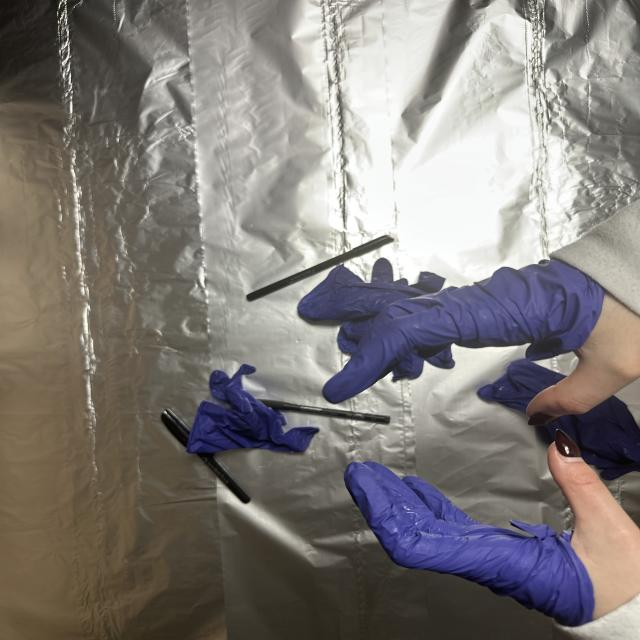glove_partial: (338, 438, 636, 628), (318, 254, 640, 424)
